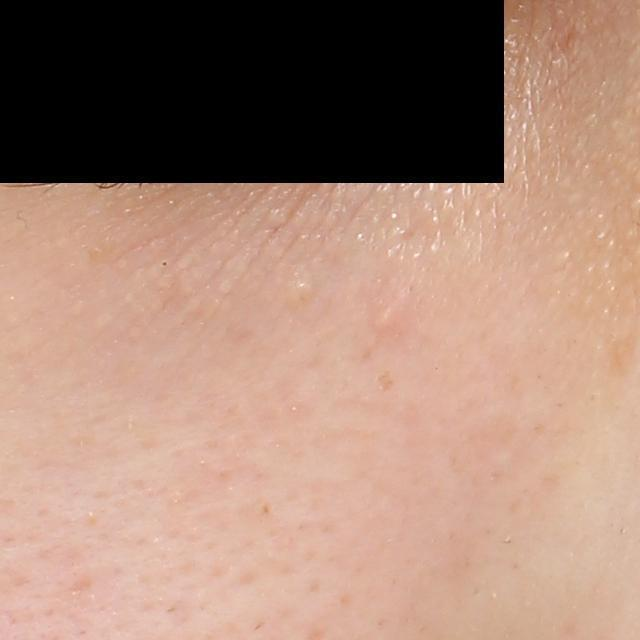comedo: (369, 302, 398, 335), (159, 257, 172, 270)
melasma: (372, 366, 395, 395)
other: (278, 274, 316, 312)
